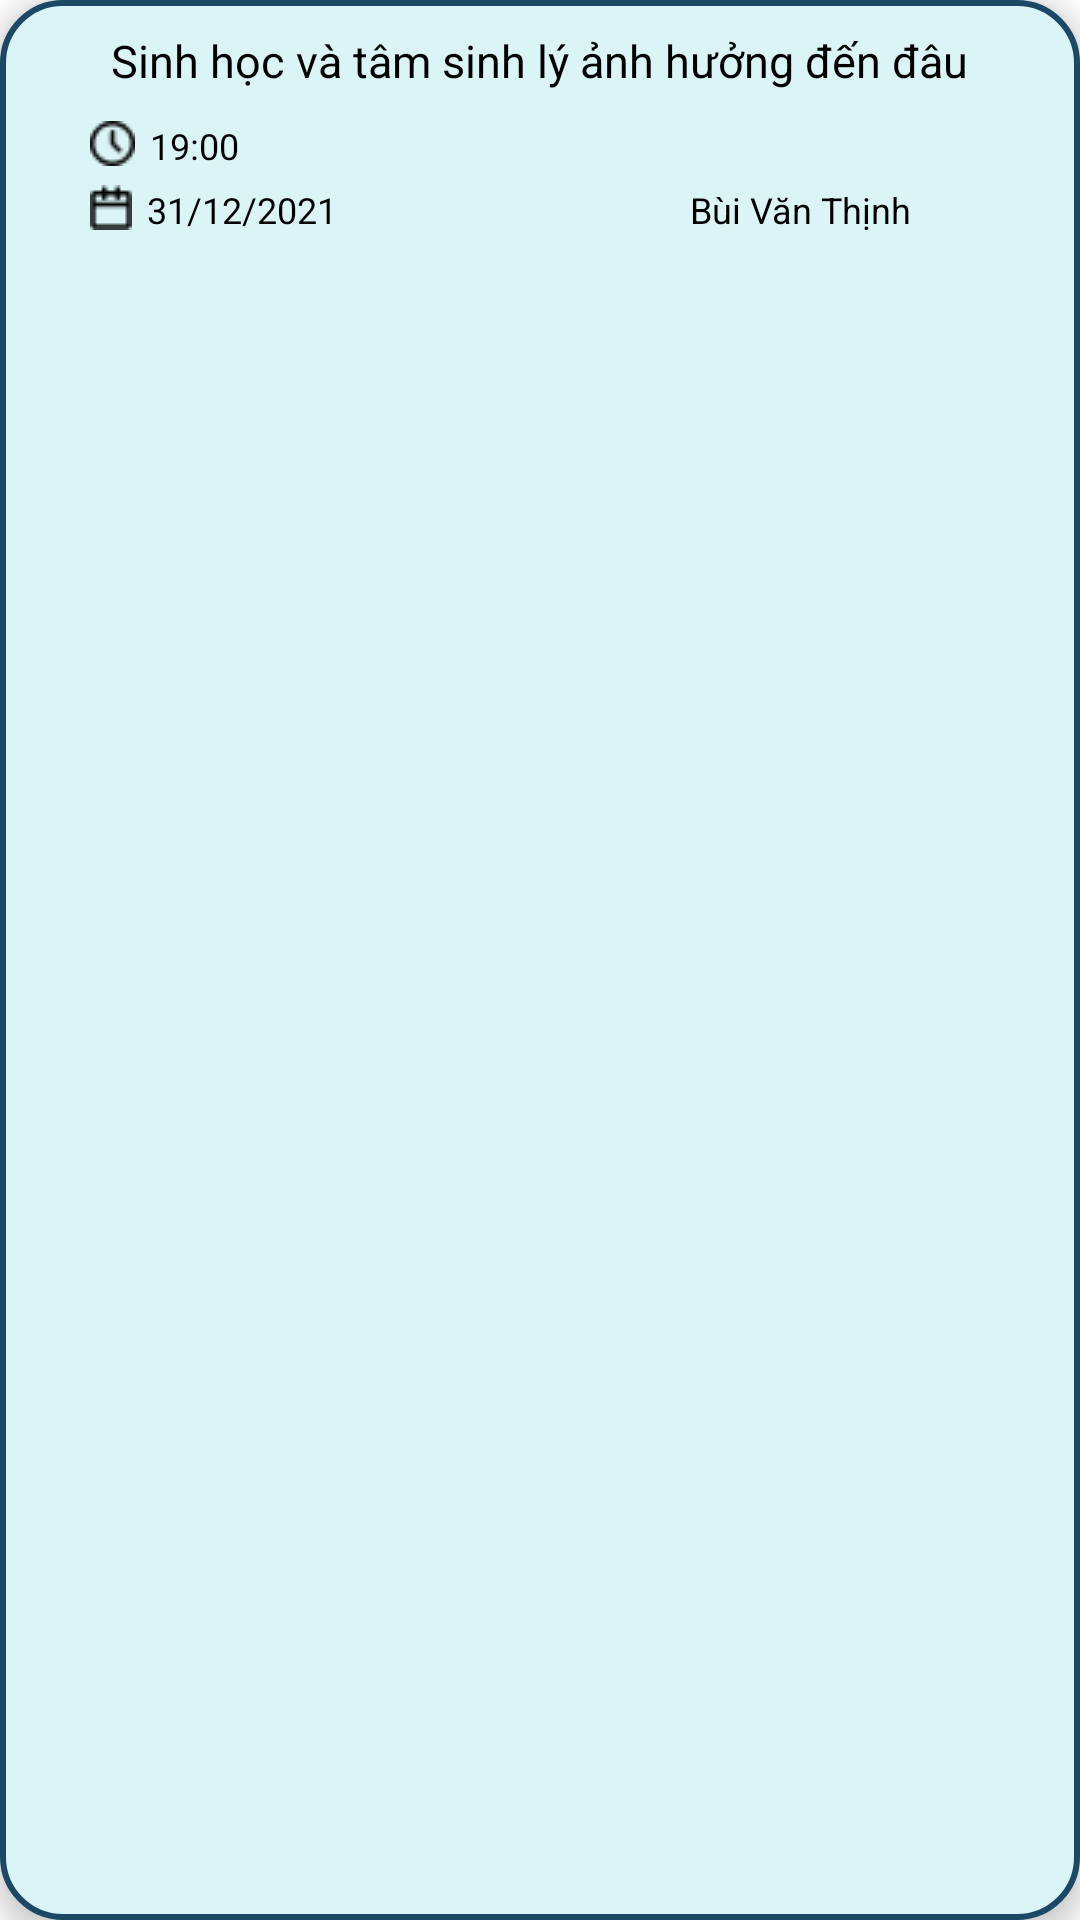

Where to tap for icons on this 1080px x 1920px app screen, as [x,y]:
lich: [111,207]
time: [112,143]
